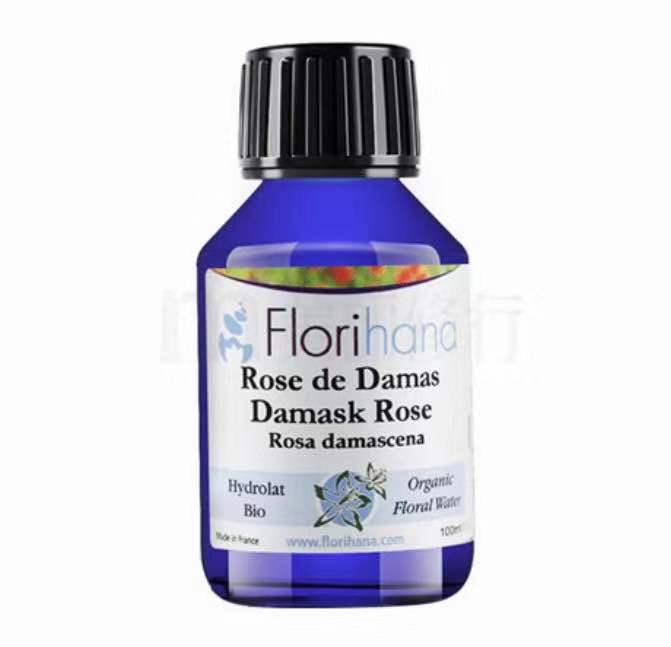cosmetic: (193, 40, 475, 604)
